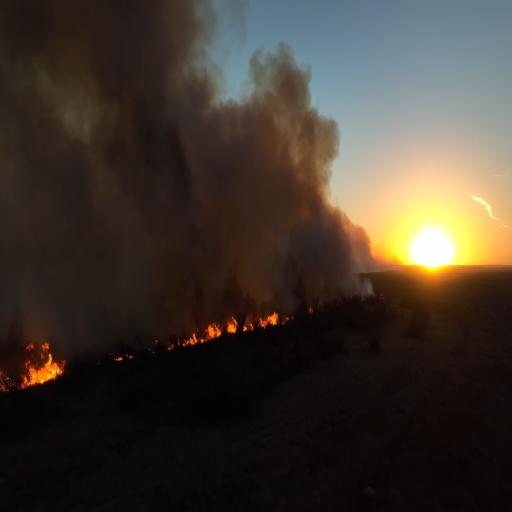fire: (20, 346, 62, 395), (207, 310, 240, 346)
smoke: (60, 0, 188, 319), (13, 0, 188, 163), (201, 52, 322, 247)
